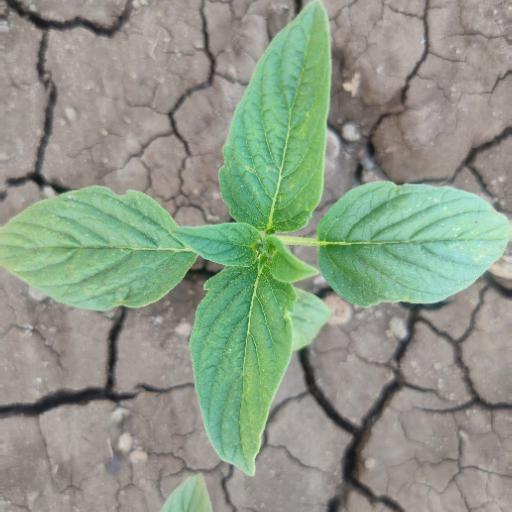crop: (3, 3, 509, 463)
